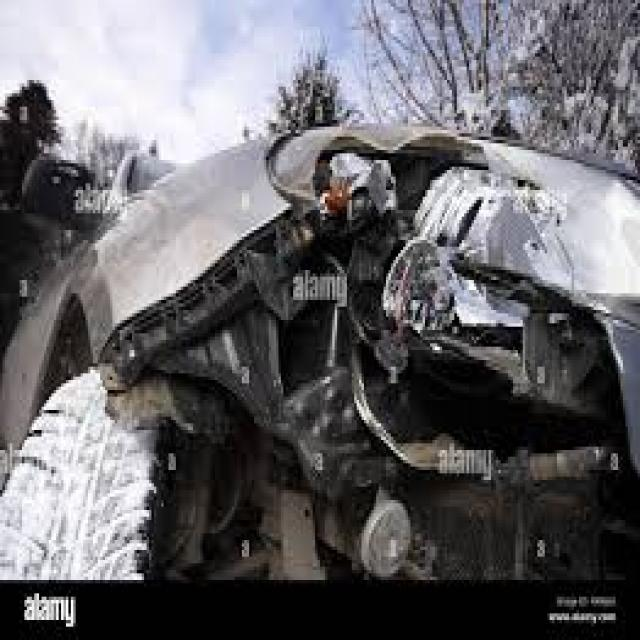damaged-head-light: (284, 128, 640, 299)
